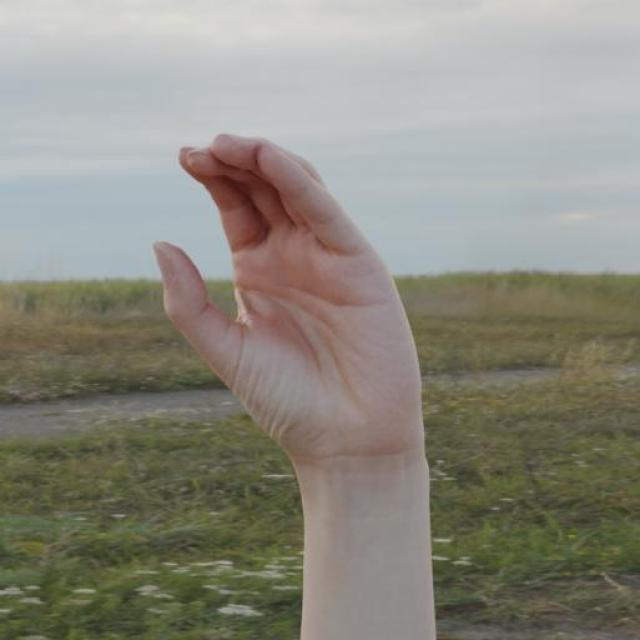C: (147, 128, 434, 477)
